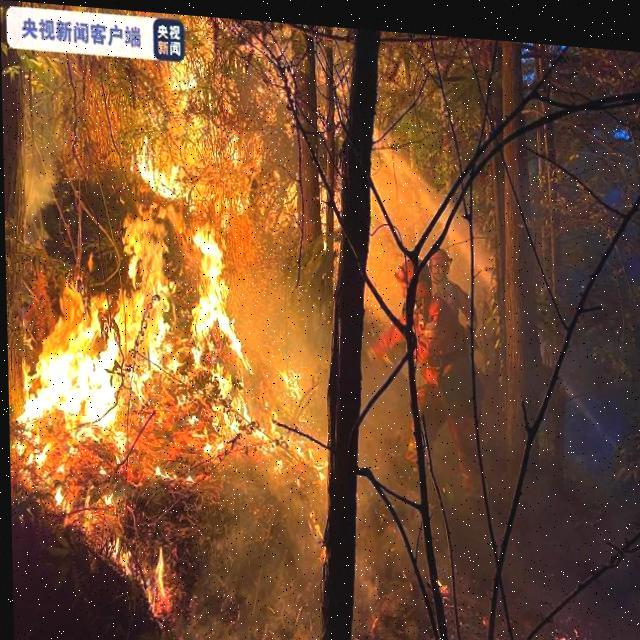Fire: (8, 134, 283, 577)
